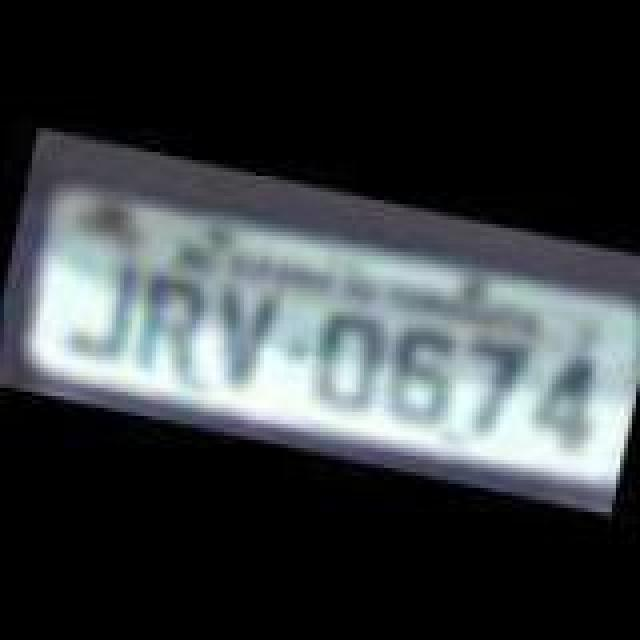4: (522, 332, 610, 452)
6: (382, 314, 462, 430)
7: (444, 322, 528, 442)
J: (52, 244, 140, 364)
O: (300, 300, 384, 412)
R: (126, 264, 210, 380)
V: (198, 274, 282, 394)
